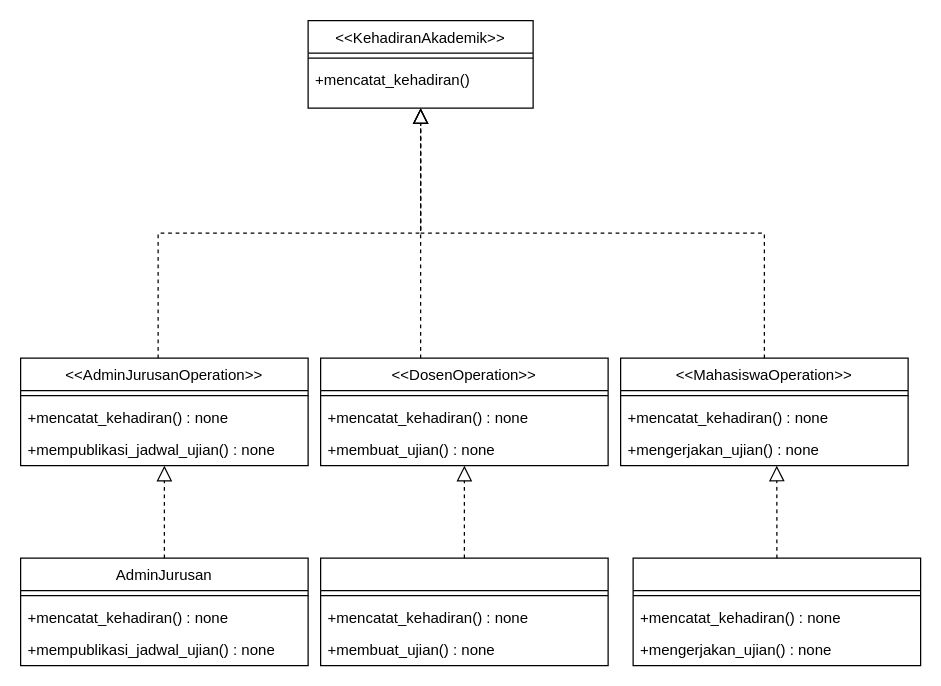
Some shapes in this 941 by 686 pixel diagram are drawn without their labels. The shapes that lost their labels are listed below. From the top down, each one's box as (x1, y1, x2, y2) in pixels, then its label:
(319, 557, 608, 666): Dosen
(632, 557, 921, 666): Mahasiswa
